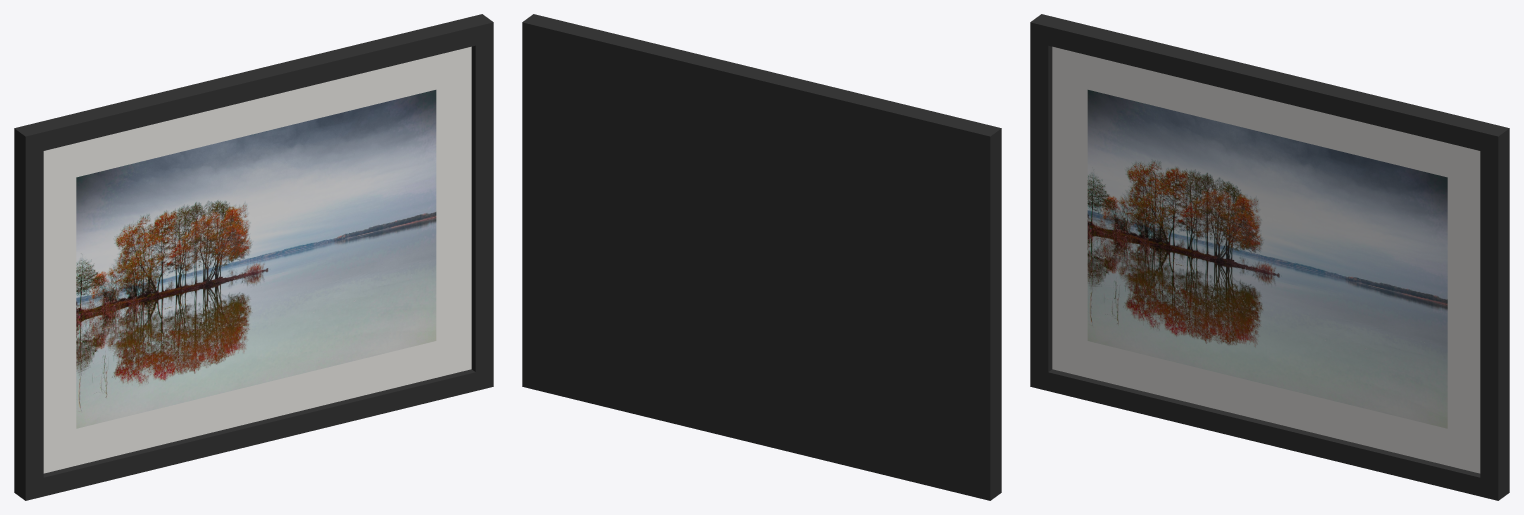
The model's file is spegeln-40.gltf.
The picture shows the model from 3 angles, left to right: view 1: azimuth 30°, elevation 25°; view 2: azimuth 150°, elevation 25°; view 3: azimuth 330°, elevation 25°; orthographic projection.
Visible parts, largest first — view 1: tavla; view 2: tavla; view 3: tavla.
Boxes of the visible parts, bbox=[...] form: tavla: bbox=[14, 14, 493, 500]; tavla: bbox=[522, 14, 1001, 500]; tavla: bbox=[1030, 14, 1509, 500].
Size of the model in its own units: 0.52 by 0.3867 by 0.022.
3 materials, 1 textured.
